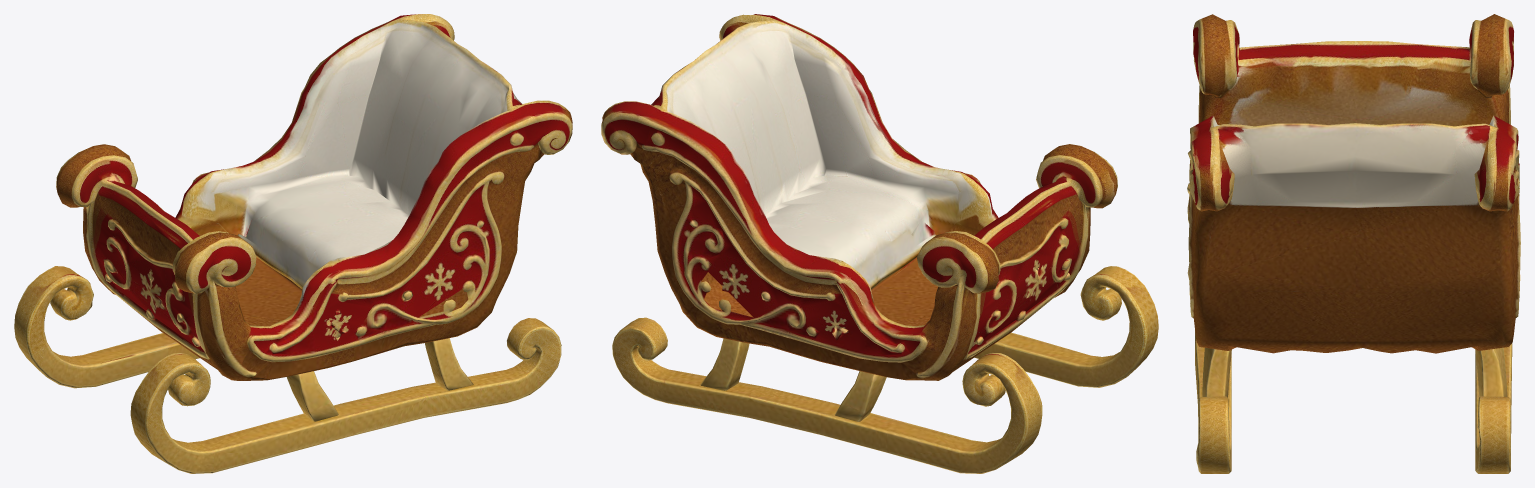
The model's file is AW-XMAS-SLEIGH-001-v0.2.glb.
3 renders of one model, left to right at view 1: azimuth 30°, elevation 25°; view 2: azimuth 150°, elevation 25°; view 3: azimuth 270°, elevation 25°, orthographic. The views are drawn at different scales.
Visible parts, largest first — view 1: AW-XMAS-SLEIGH-001_meter_ground_pivot; view 2: AW-XMAS-SLEIGH-001_meter_ground_pivot; view 3: AW-XMAS-SLEIGH-001_meter_ground_pivot.
Part boxes in pixels (box(x1,y1,x2,y2)): AW-XMAS-SLEIGH-001_meter_ground_pivot: box(14, 14, 572, 473); AW-XMAS-SLEIGH-001_meter_ground_pivot: box(601, 14, 1158, 473); AW-XMAS-SLEIGH-001_meter_ground_pivot: box(1187, 14, 1520, 473).
Size of the model in its own units: 4.56 by 3 by 2.56.
1 material, 1 textured.
